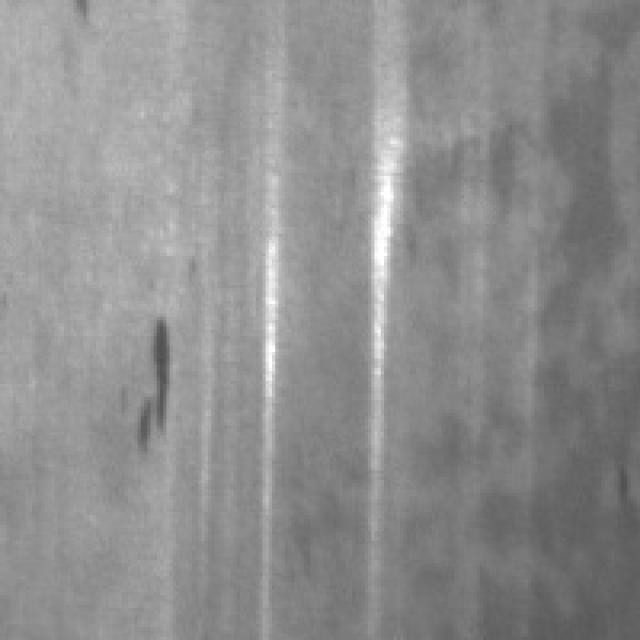inclusion: (131, 307, 176, 451)
scratches: (355, 25, 410, 618), (250, 154, 294, 636)
